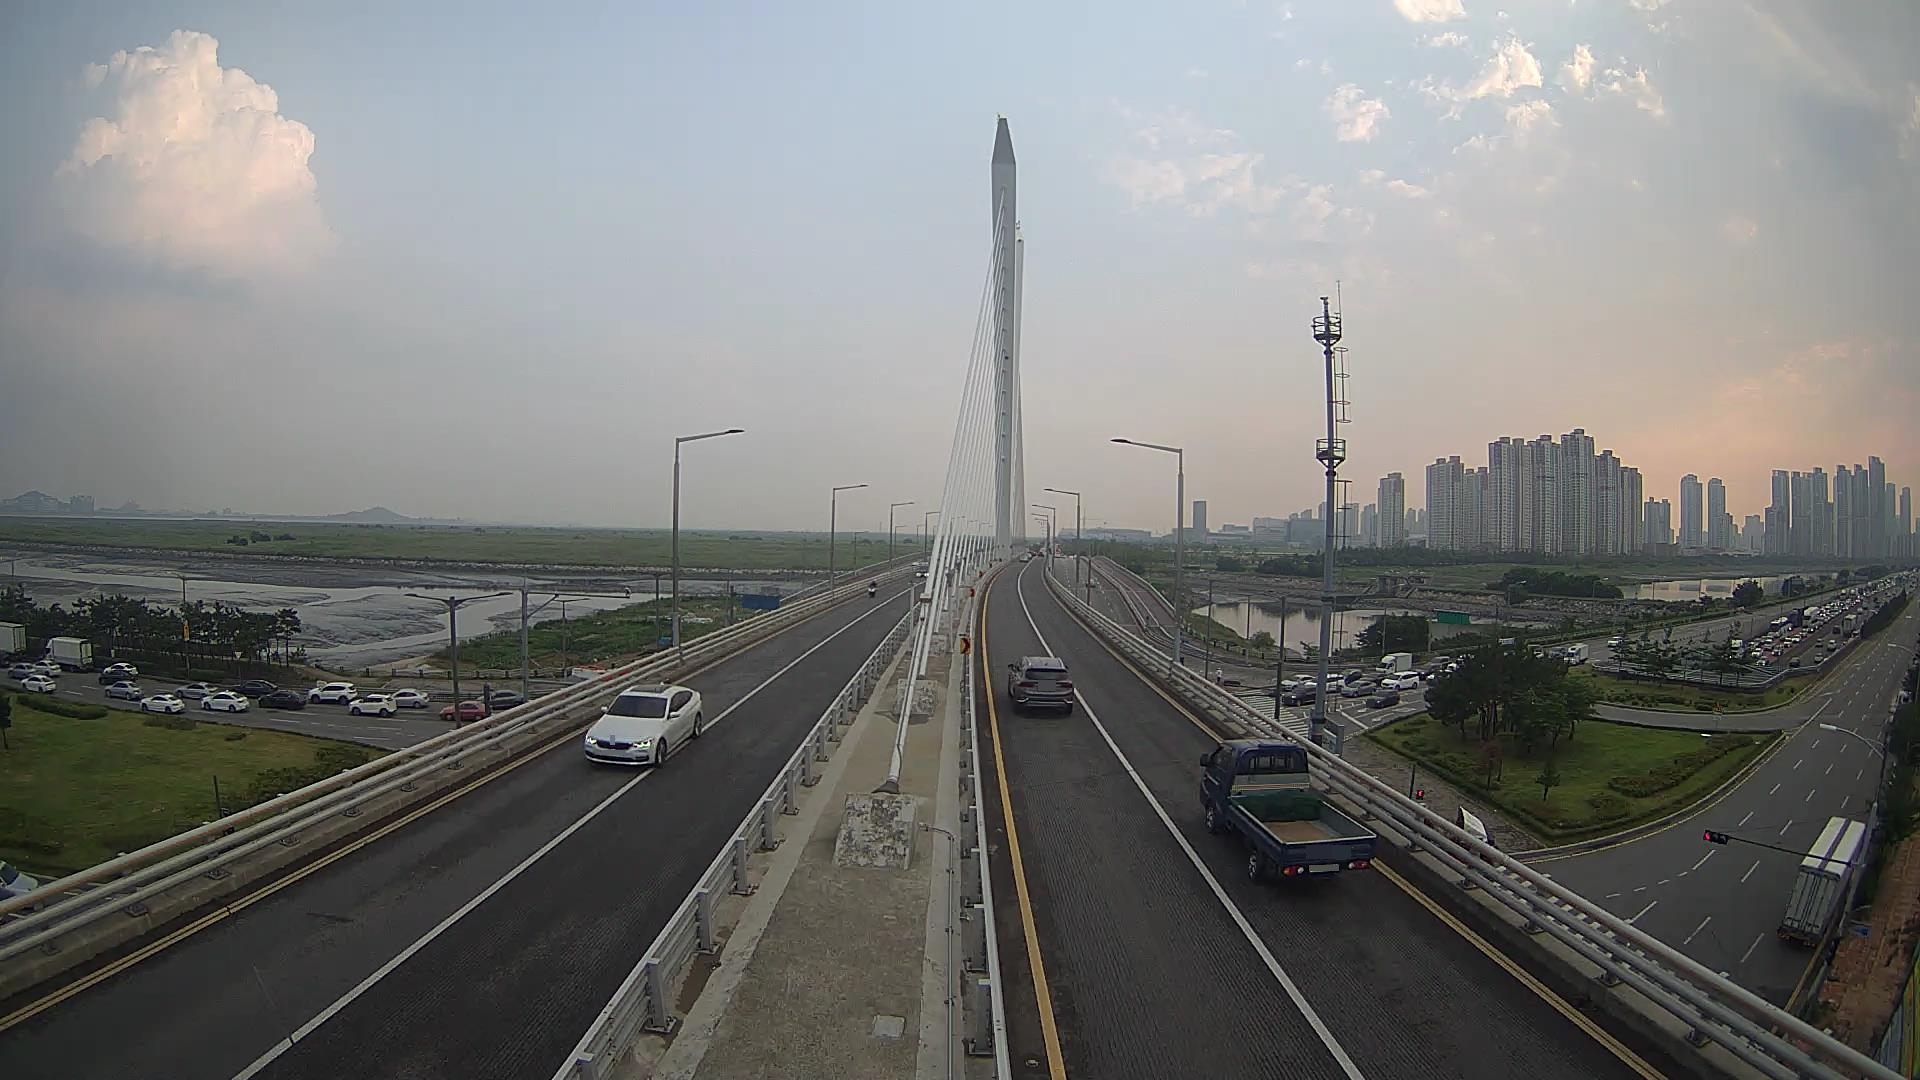정상차량: (1200, 740, 1377, 884)
